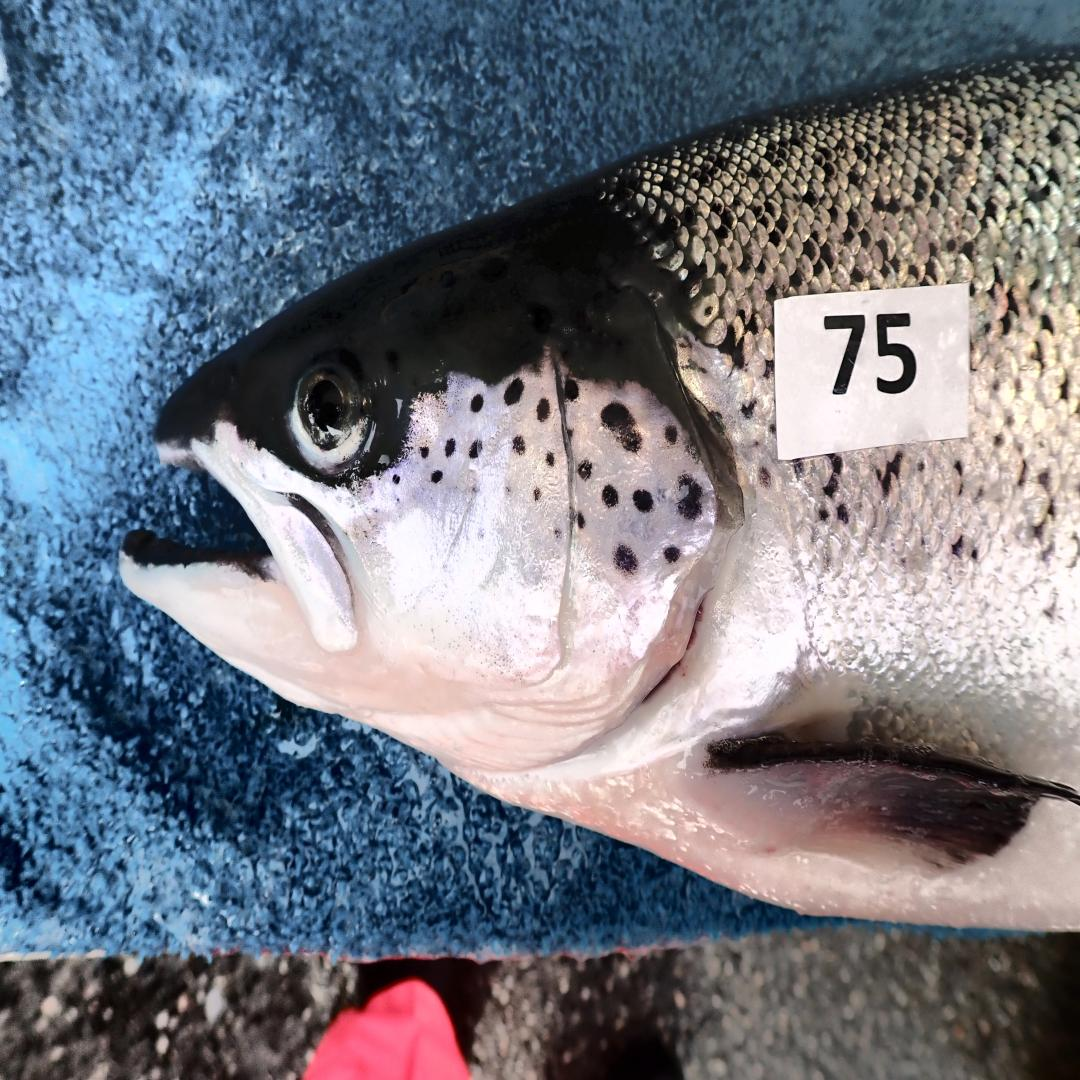spot: (601, 401, 641, 453), (677, 475, 702, 520), (614, 545, 637, 576), (504, 377, 524, 405), (633, 489, 654, 514), (563, 377, 580, 402), (601, 484, 618, 507), (536, 399, 551, 422), (578, 461, 593, 481), (663, 547, 681, 563), (468, 440, 483, 458), (665, 425, 678, 445), (512, 437, 525, 457), (471, 394, 484, 413), (444, 439, 455, 458), (430, 470, 443, 484), (419, 445, 429, 460), (577, 512, 586, 528), (546, 452, 554, 468), (392, 474, 401, 485), (566, 428, 573, 442), (534, 489, 541, 502), (554, 529, 561, 540)
